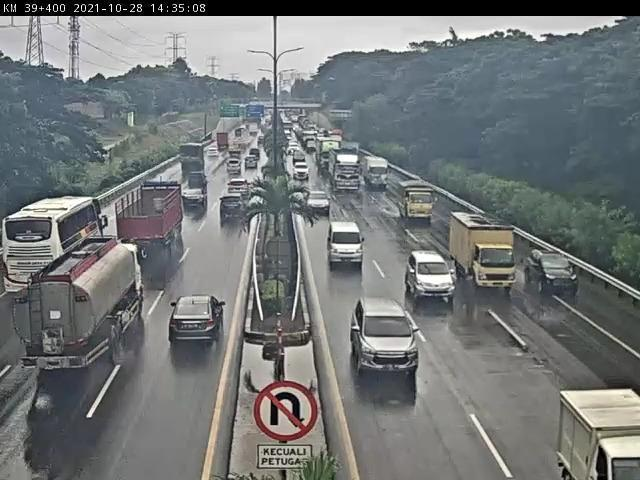bus: (7, 198, 109, 281)
car: (545, 374, 640, 480), (154, 287, 237, 364), (353, 299, 426, 379), (400, 250, 456, 309), (527, 245, 576, 297), (325, 214, 363, 262), (215, 194, 252, 232), (174, 181, 204, 215), (224, 178, 252, 208), (306, 183, 330, 208)
truck: (18, 243, 154, 396), (110, 170, 196, 261), (454, 214, 518, 290), (390, 178, 434, 221)
